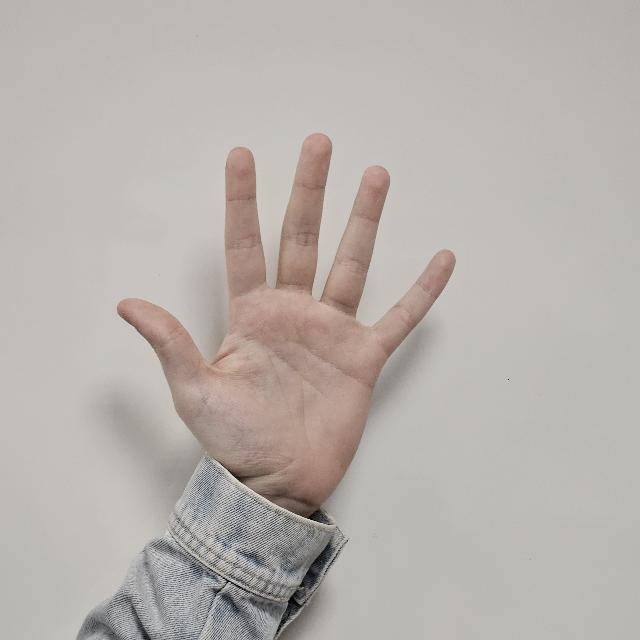X: (117, 130, 461, 520)
